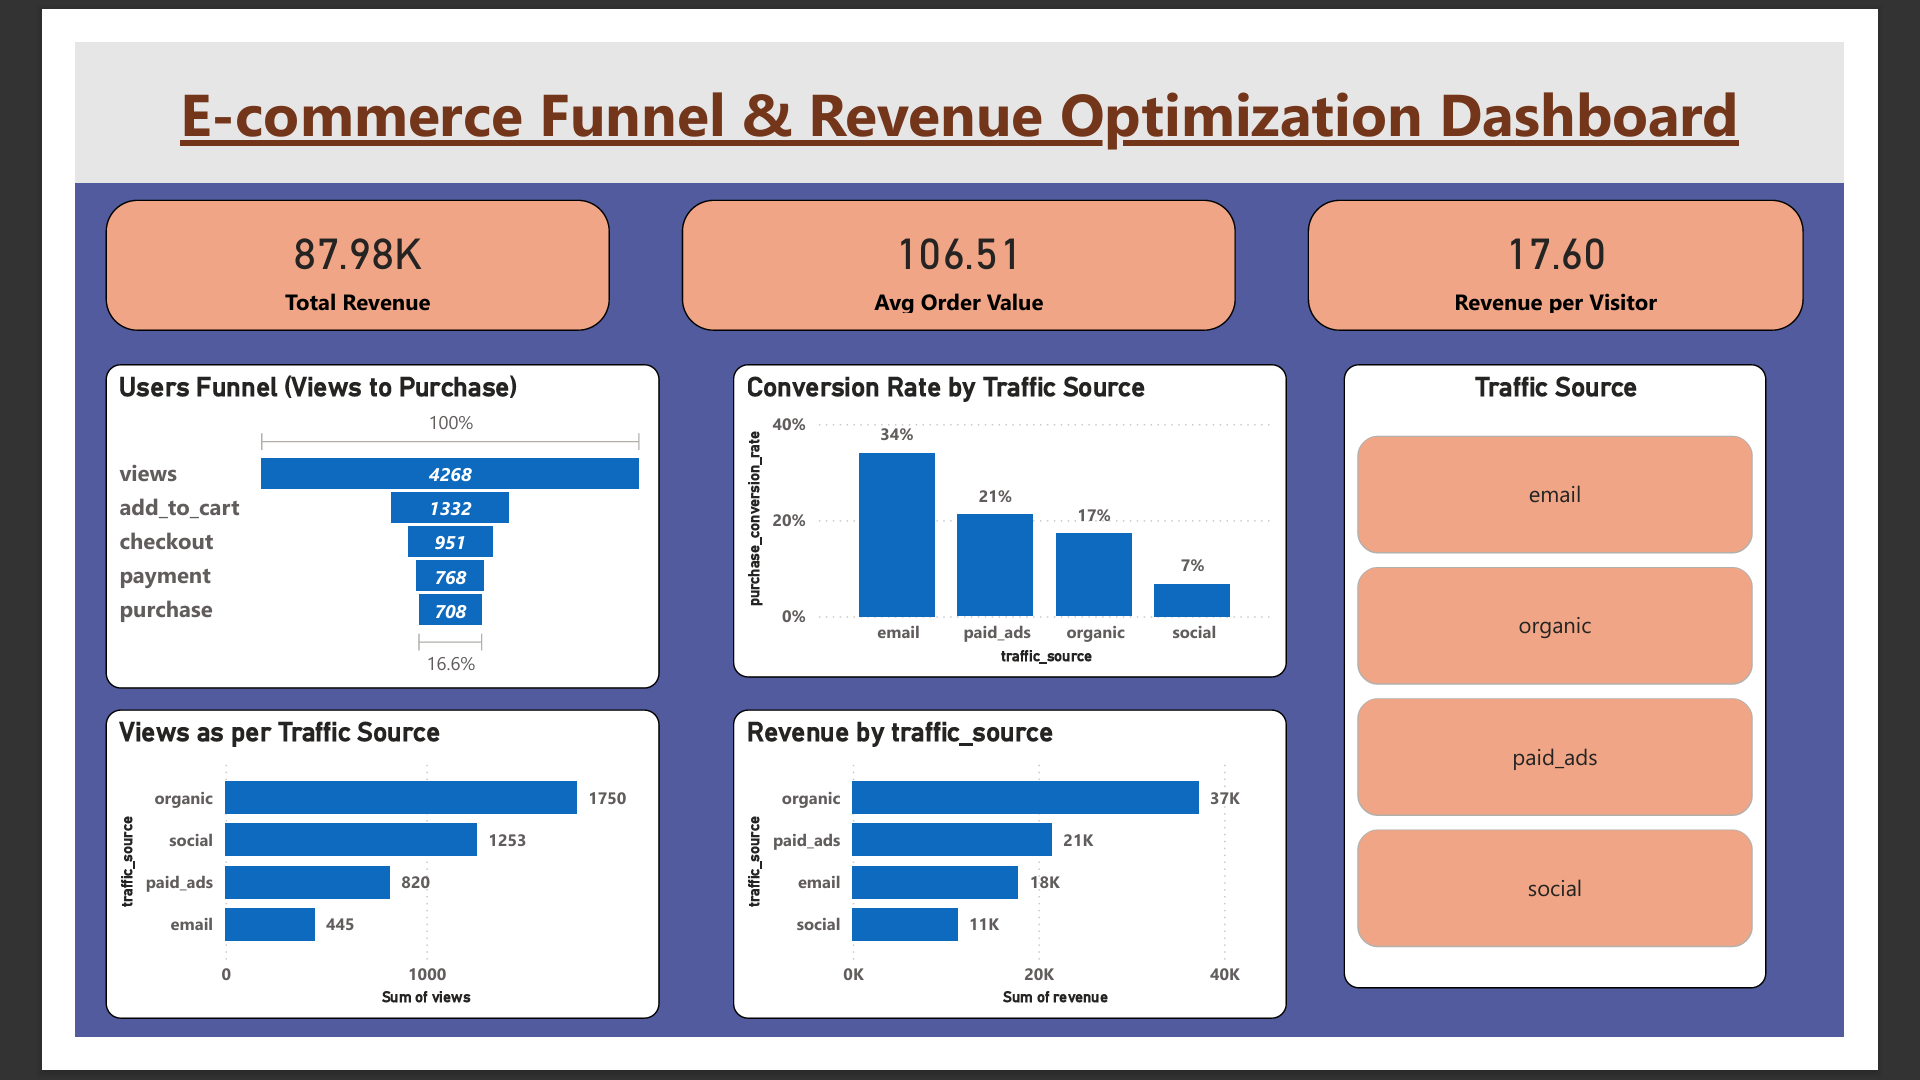

Layout of this report page (visuals, bound fields, positions):
{"tool":"powerbi","page":{"name":"Page 1","canvas":[1280,720],"ordinal":0},"visuals":[{"type":"funnel","title":"Users Funnel (Views to Purchase)","fields":{"Category":["Funnel_data.Stage"],"Y":["Sum(Funnel_data.User)"]},"box":[22,233.3,400.7,234.6],"z":0},{"type":"clusteredBarChart","title":"Views as per Traffic Source","fields":{"Category":["Traffic_source_performance.traffic_source"],"Y":["Sum(Traffic_source_performance.views)"]},"box":[22,483,400.7,223.7],"z":1000},{"type":"clusteredColumnChart","title":"Conversion Rate by Traffic Source","fields":{"Category":["Traffic_source_performance.traffic_source"],"Y":["Avg(Traffic_source_performance.purchase_conversion_rate)"]},"box":[476.2,233.3,400.7,226.4],"z":2000},{"type":"clusteredBarChart","title":"Revenue by traffic_source","fields":{"Category":["Query1.traffic_source"],"Y":["Sum(Query1.revenue)"]},"box":[476.2,483,400.7,223.7],"z":3000},{"type":"card","fields":{"Values":["user_behaviour_analytics user_events.Total Revenue"]},"box":[22,113.9,365,94.7],"z":4000},{"type":"textbox","box":[0,0,1280.3,101.5],"z":5000},{"type":"card","fields":{"Values":["user_behaviour_analytics user_events.Avg Order Value"]},"box":[439.1,113.9,400.7,94.7],"z":6000},{"type":"card","fields":{"Values":["user_behaviour_analytics user_events.Revenue per Visitor"]},"box":[891.9,113.9,359.5,94.7],"z":7000},{"type":"advancedSlicerVisual","title":"Traffic Source","fields":{"Values":["user_behaviour_analytics user_events.traffic_source"]},"box":[918,233.3,306,451.5],"z":8000}]}

Visuals, with their boxes in screenshot pixels (x1, y1, x2, y2), scaled from the page's 1280x720 canvas onto the 1920x1080 screenshot:
"Users Funnel (Views to Purchase)" funnel: bbox(33, 350, 634, 702)
"Views as per Traffic Source" clusteredBarChart: bbox(33, 724, 634, 1060)
"Conversion Rate by Traffic Source" clusteredColumnChart: bbox(714, 350, 1315, 690)
"Revenue by traffic_source" clusteredBarChart: bbox(714, 724, 1315, 1060)
card - user_behaviour_analytics user_events.Total Revenue: bbox(33, 171, 580, 313)
textbox: bbox(0, 0, 1919, 152)
card - user_behaviour_analytics user_events.Avg Order Value: bbox(659, 171, 1260, 313)
card - user_behaviour_analytics user_events.Revenue per Visitor: bbox(1338, 171, 1877, 313)
"Traffic Source" advancedSlicerVisual: bbox(1377, 350, 1836, 1027)
